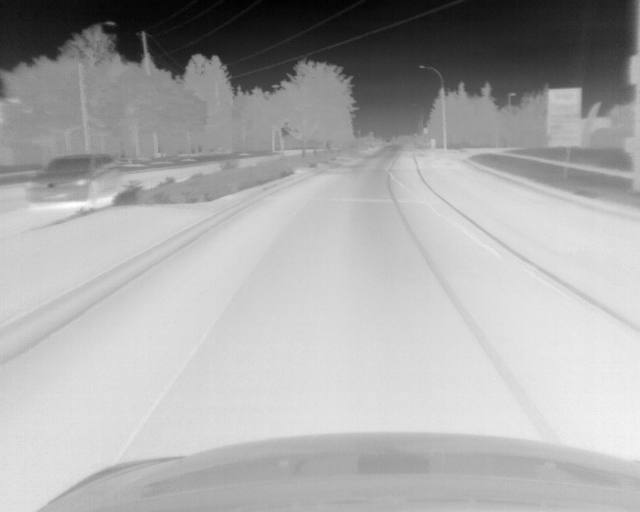car: (23, 153, 123, 208)
